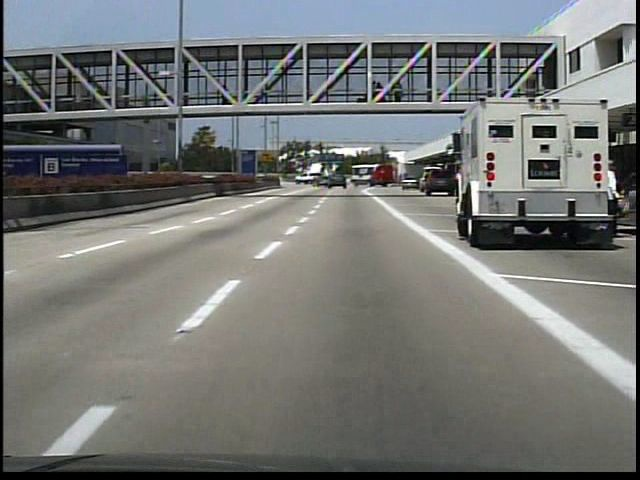person: (603, 154, 621, 243)
